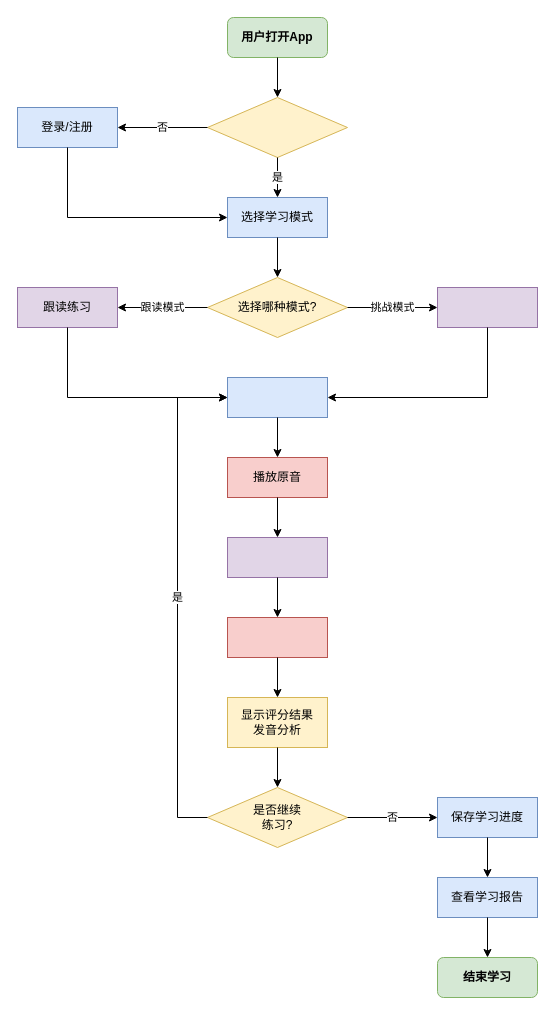
Some shapes in this 555 by 1015 pixel diagram are drawn without their labels. Each missing label, with the centre of its shape:
"AI智能评分" goes at point (277, 637).
"是否已登录?" goes at point (277, 127).
"用户开始配音" goes at point (277, 557).
"选择学习内容" goes at point (277, 397).
"配音挑战" goes at point (487, 307).
